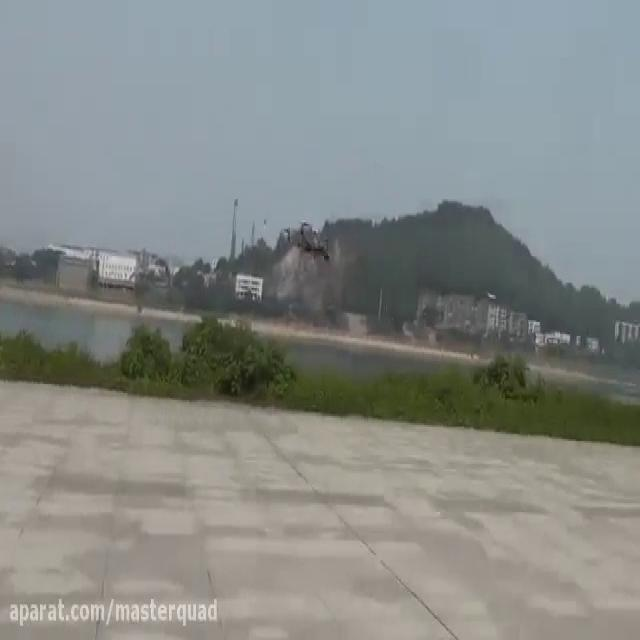drone: (282, 217, 331, 261)
